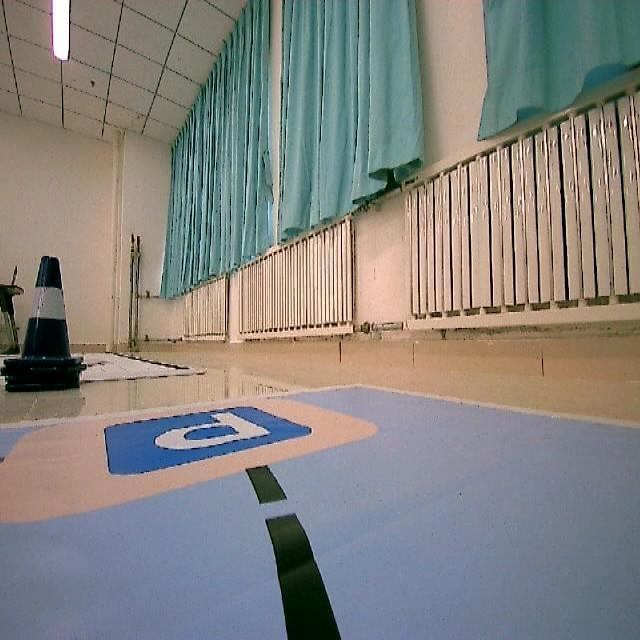obstacle: (0, 255, 86, 394)
